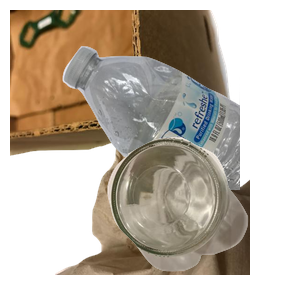cardboard: (10, 10, 237, 158)
glass: (105, 135, 300, 300)
plastic: (60, 44, 300, 224)
trash: (52, 120, 292, 300)
